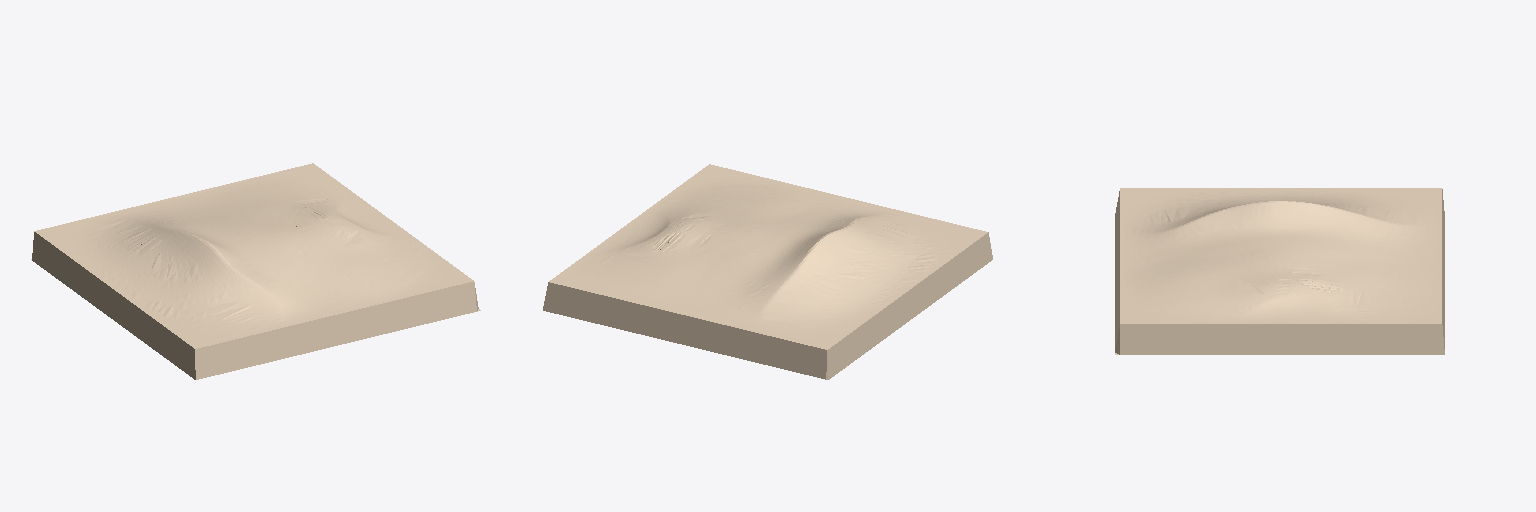
Rendered from dune.obj.
3 renders of one model, left to right at view 1: azimuth 30°, elevation 25°; view 2: azimuth 150°, elevation 25°; view 3: azimuth 270°, elevation 25°, orthographic.
Visible parts, largest first — view 1: Object.1; view 2: Object.1; view 3: Object.1.
Boxes of the visible parts, <box> form: Object.1: <box>31,163,480,379</box>; Object.1: <box>543,164,992,379</box>; Object.1: <box>1115,188,1444,354</box>.
Bounding box in the file's own units: 1000 × 195 × 1000.